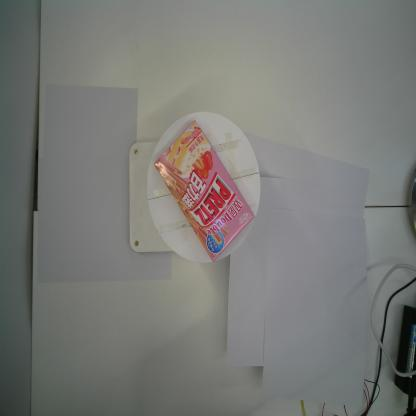Dessert: (154, 119, 255, 262)
